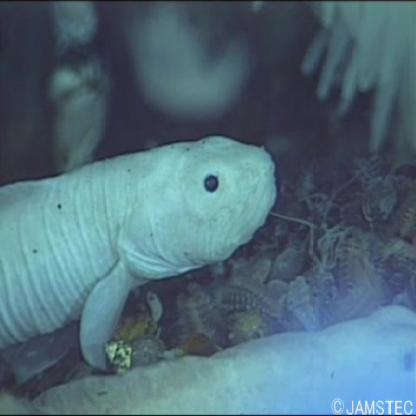Bio: (1, 130, 281, 376)
